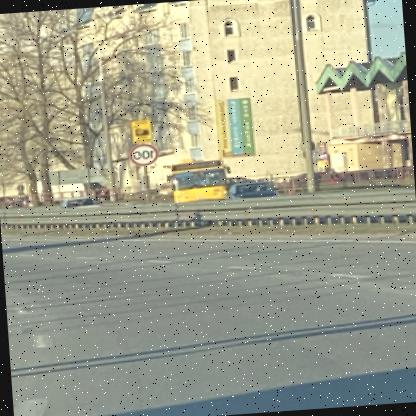speedlimit: (132, 140, 160, 164)
